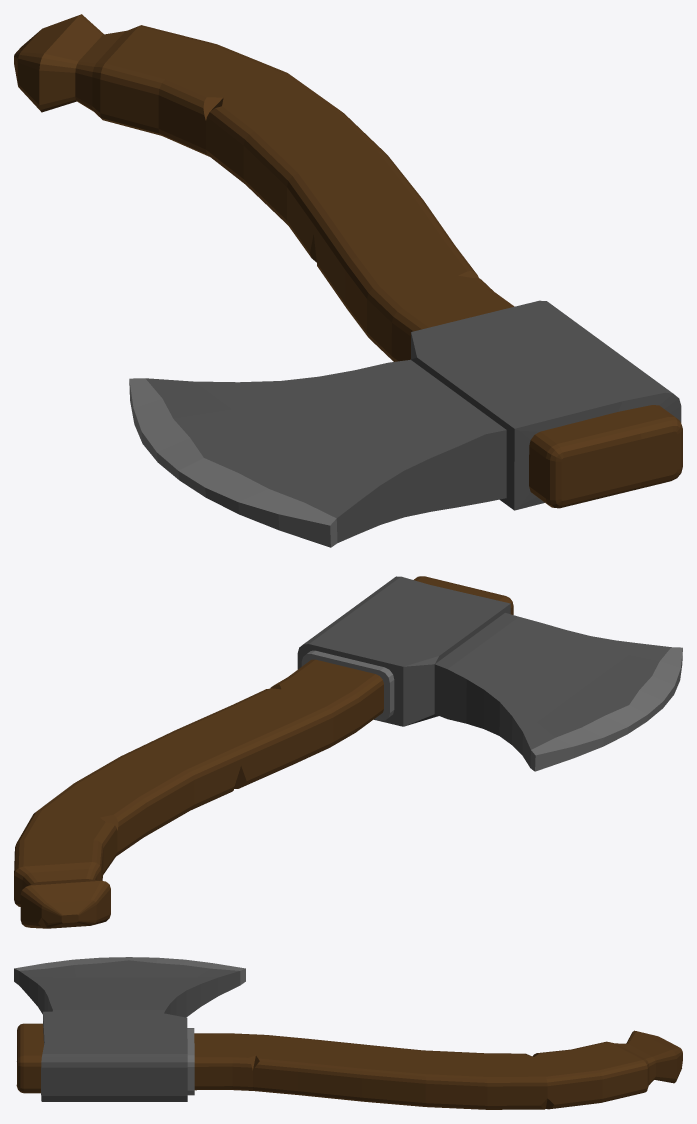
The model's file is F_Axe.fbx.
The picture shows the model from 3 angles, top to bottom: view 1: azimuth 30°, elevation 25°; view 2: azimuth 150°, elevation 25°; view 3: azimuth 270°, elevation 25°; orthographic projection. The views are drawn at different scales.
Parts seen in each view (by area): view 1: F_Axe; view 2: F_Axe; view 3: F_Axe.
Boxes of the visible parts, x1,y1,x2,y2 form: F_Axe: (14, 14, 682, 547); F_Axe: (14, 576, 682, 928); F_Axe: (14, 957, 682, 1109).
Size of the model in its own units: 35.49 by 5.82 by 74.63.
